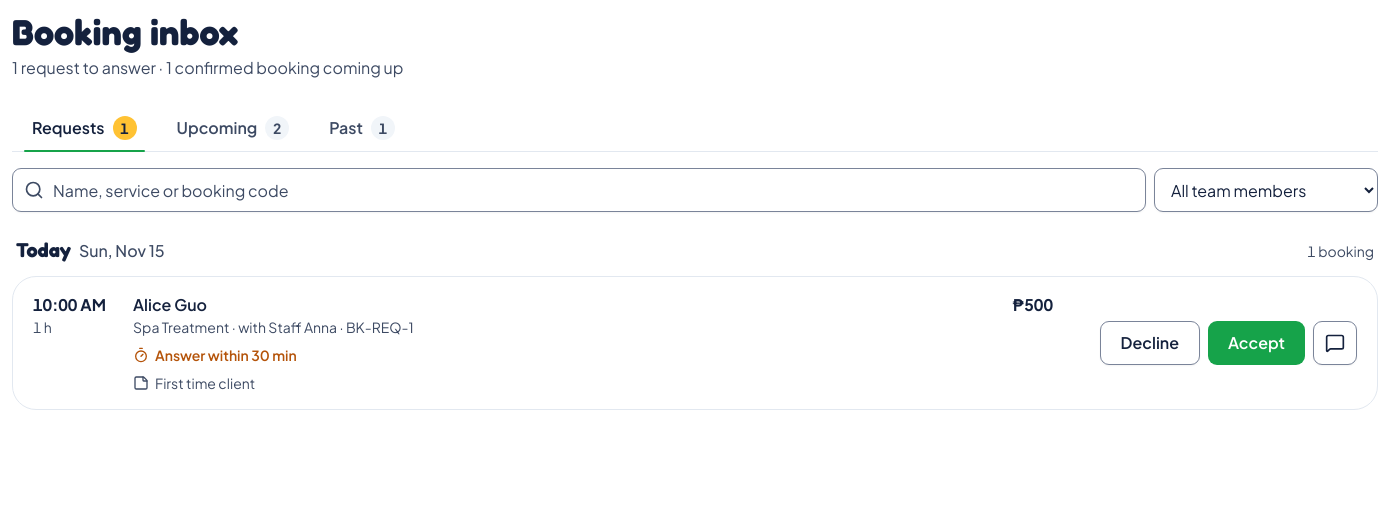
Scenario: BookingInbox › shows the server's message when an action fails
Click the button "Accept".
click(1256, 343)  # box [1208,321,1305,365]
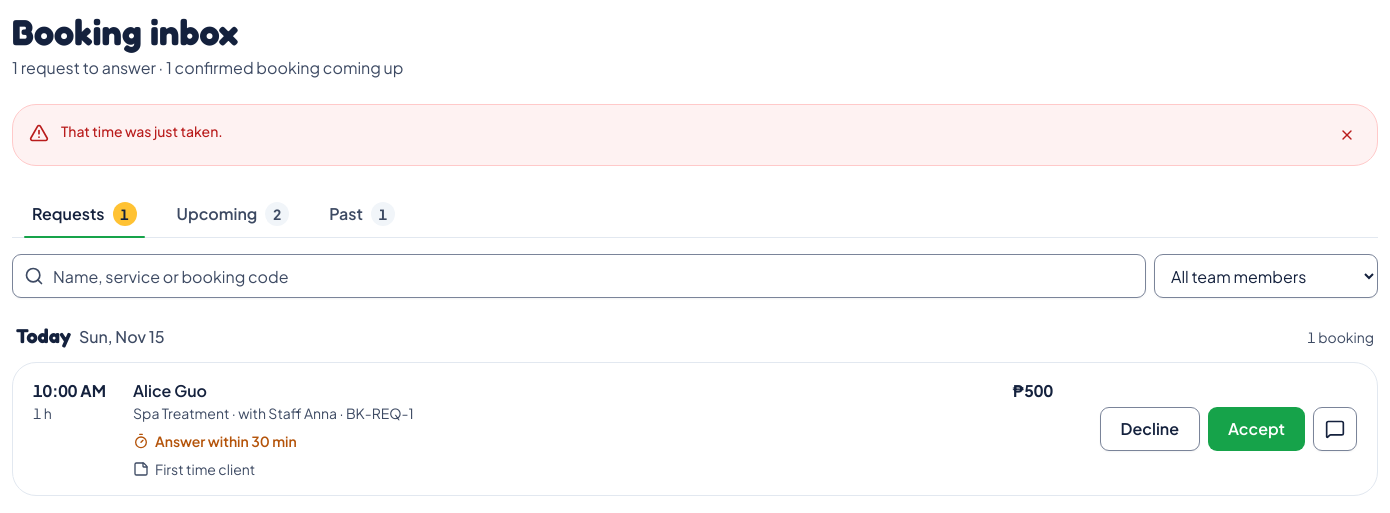
Expected: the message reads "That time was just taken.", [61,122,223,140]
